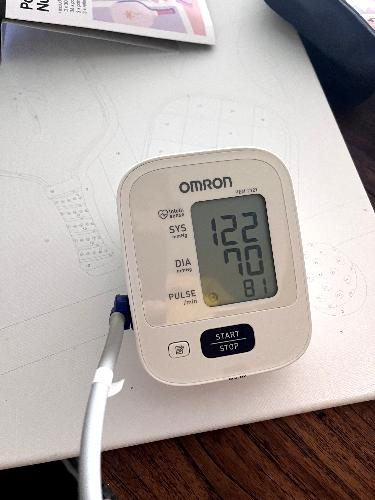bpm: (189, 192, 281, 309)
